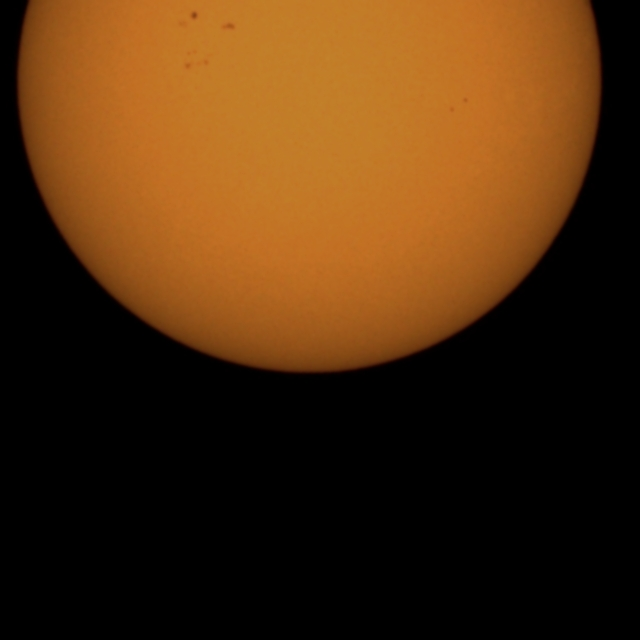sunspot: (182, 49, 210, 71), (177, 9, 199, 28), (448, 96, 469, 114), (219, 21, 237, 32), (189, 10, 200, 22), (448, 105, 456, 114), (462, 96, 470, 104)
